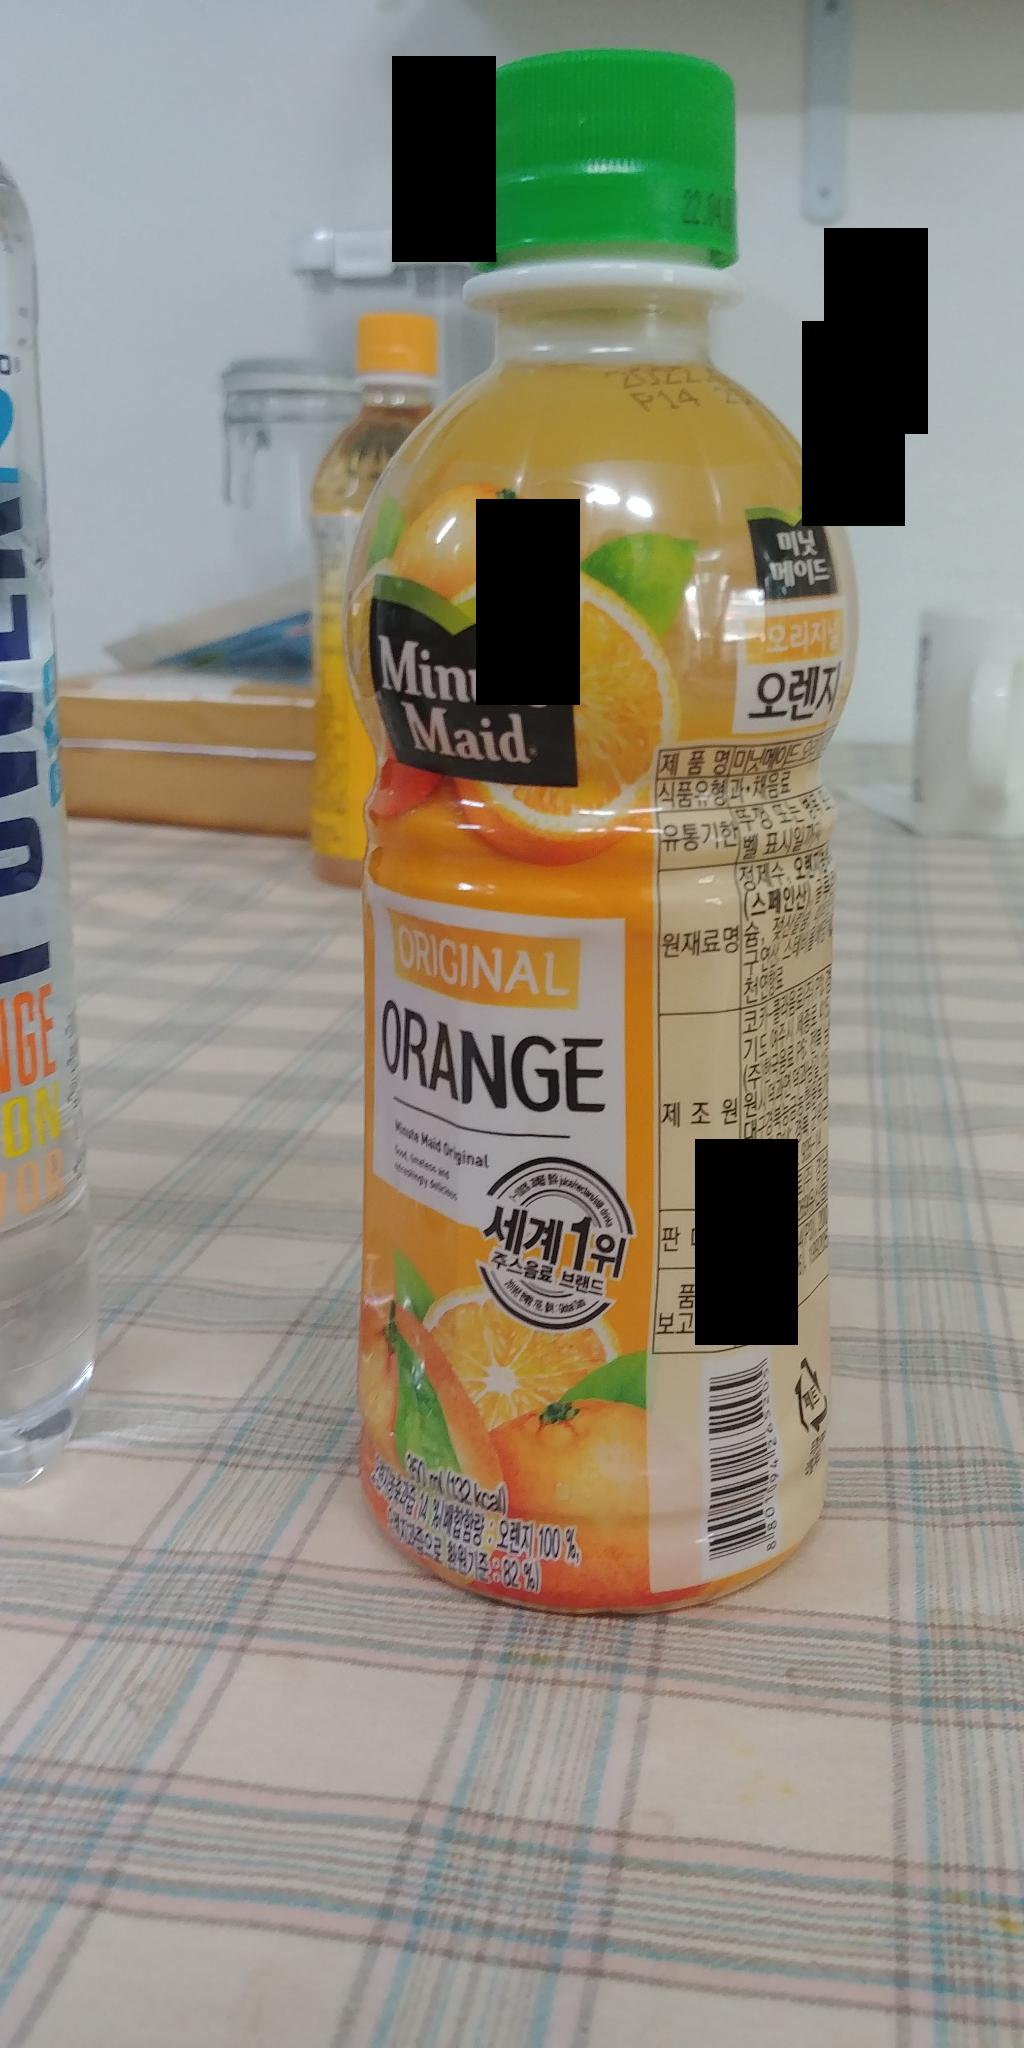minutemaid_org_orange: (338, 39, 856, 1604)
